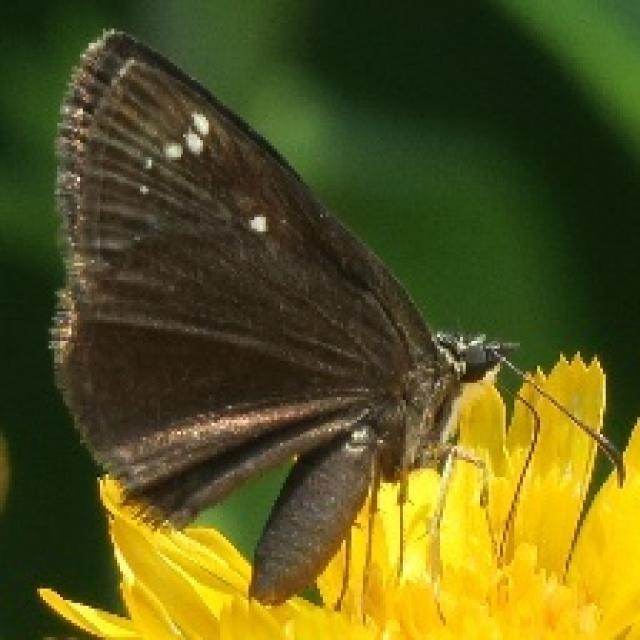butterfly: (43, 23, 626, 614)
